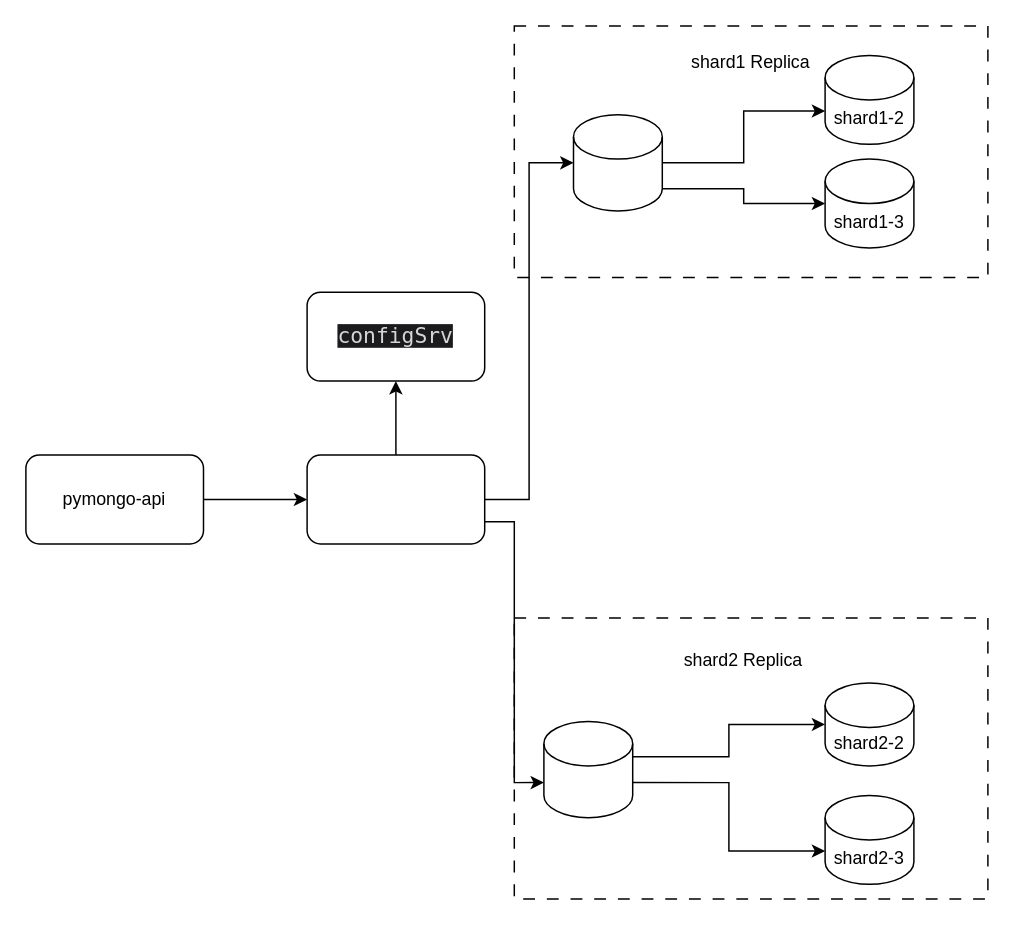
Some shapes in this 1014 by 925 pixel diagram are drawn without their labels. The shapes that lost their labels are listed below. From the top down, each one's centre as x and y in pixels, then its label:
At (617,162): "shard1-1".
At (395,499): "mongos_router".
At (587,769): "shard2-1".
